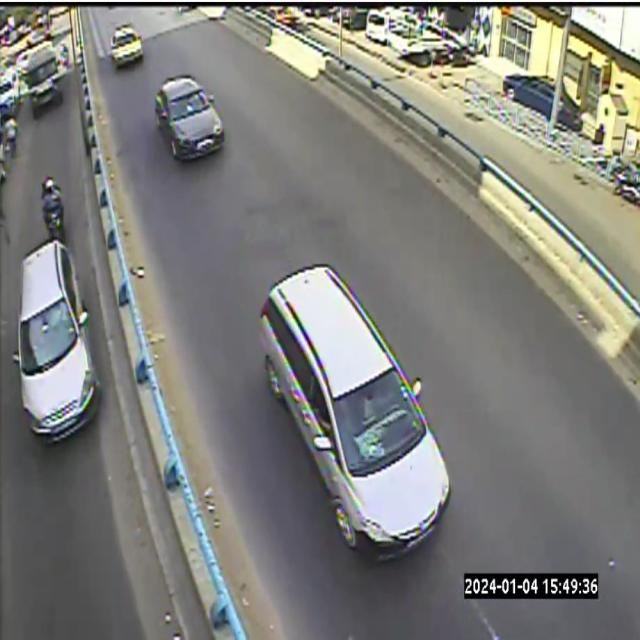car: (261, 283, 449, 553), (155, 76, 224, 158), (110, 22, 143, 67)
